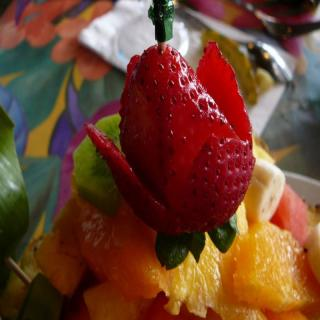Strawberry: (87, 46, 256, 268)
